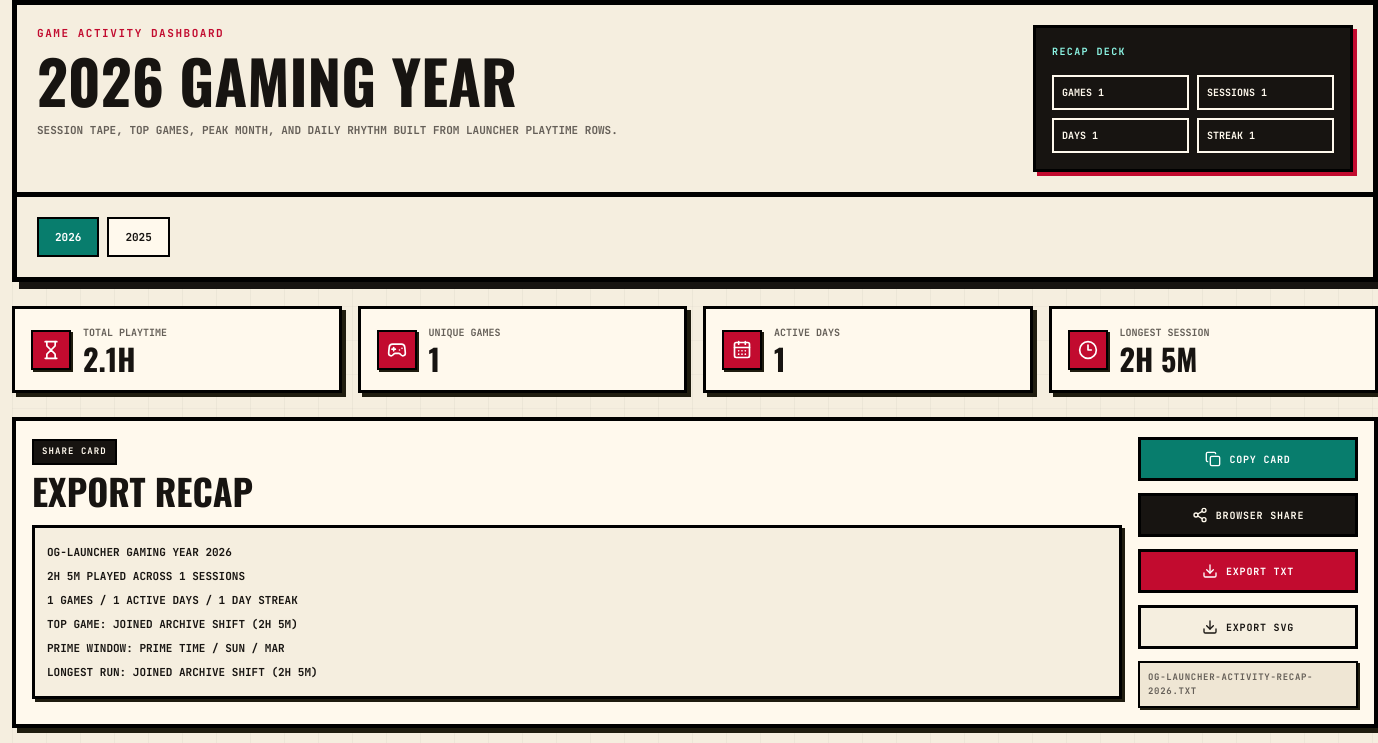
GameActivityDashboardPage › opens the browser share handoff with the yearly SVG file payload
Click the button "Browser Share": (1248, 515) left=1138, top=493, right=1358, bottom=537
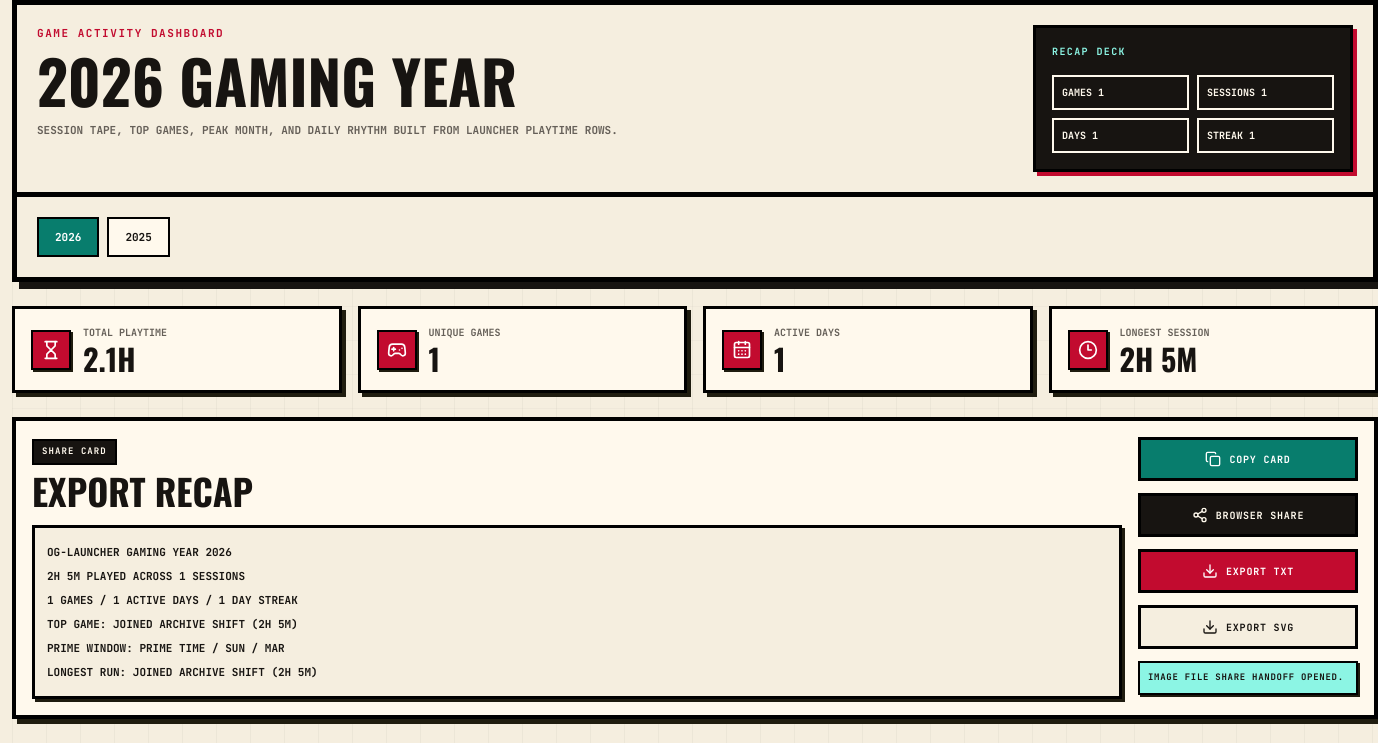
Check: the text "Image file share handoff opened." is shown, box left=1138, top=661, right=1358, bottom=694
